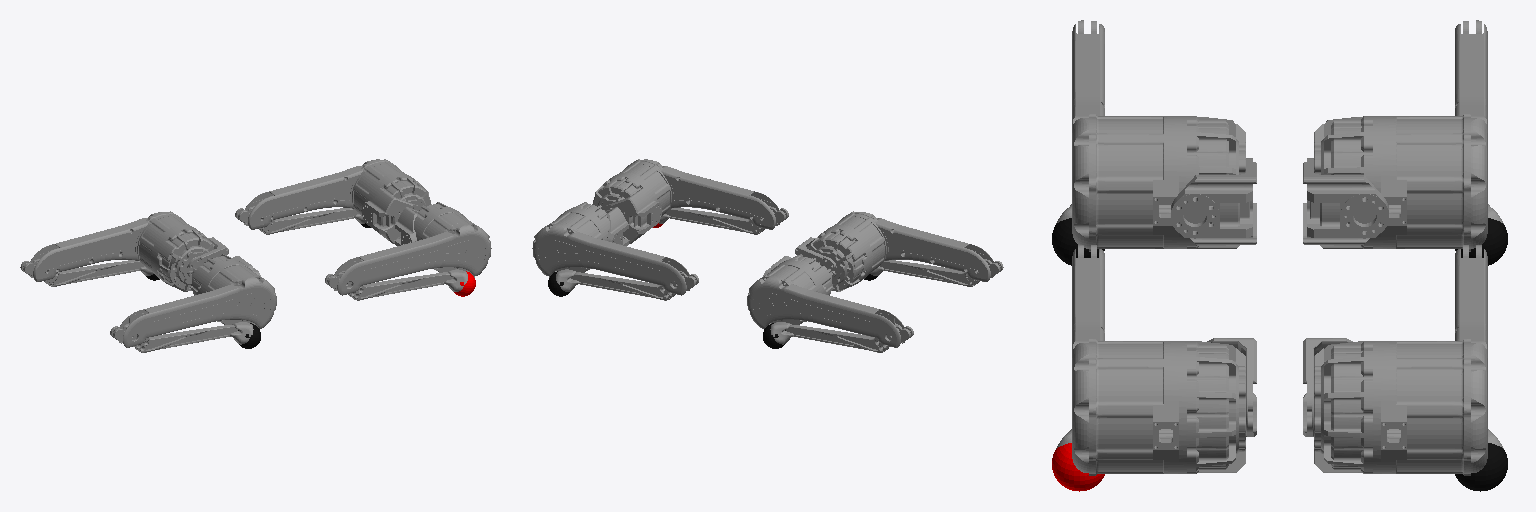
URDF robot description (hb50):
<?xml version="1.0" ?>
<!-- =================================================================================== -->
<!-- |    This document was autogenerated by xacro from urdf/hb50/hb50.urdf.xacro      | -->
<!-- |    EDITING THIS FILE BY HAND IS NOT RECOMMENDED                                 | -->
<!-- =================================================================================== -->
<robot name="hb50">
  <material name="silver">
    <color rgba="0.6 0.6 0.6 1"/>
  </material>
  <material name="black">
    <color rgba="0.1 0.1 0.1 1"/>
  </material>
  <material name="red">
    <color rgba="1 0 0 1"/>
  </material>
  <material name="orange">
    <color rgba="1 0.41 0 1"/>
  </material>
  <!-- Root link, free-floating base -->
  <link name="body">
    <inertial>
      <mass value="7.812"/>
      <inertia ixx="0.034280" ixy="0" ixz="0" iyy="0.053850" iyz="0" izz="0.073590"/>
    </inertial>
    <visual>
      <geometry>
        <mesh filename="package://robot_models/meshes/hb50/visual/hb50_body.stl" scale="0.001 0.001 0.001"/>
      </geometry>
      <material name="silver"/>
    </visual>
    <collision>
      <origin xyz="0 0 -0.002"/>
      <geometry>
        <box size="0.196 0.152 0.124"/>
      </geometry>
    </collision>
    <collision>
      <origin rpy="0 1.570796 0" xyz="0 -0.064 0"/>
      <geometry>
        <cylinder length="0.282" radius="0.056"/>
      </geometry>
    </collision>
    <collision>
      <origin rpy="0 1.570796 0" xyz="0 0.064 0"/>
      <geometry>
        <cylinder length="0.282" radius="0.056"/>
      </geometry>
    </collision>
    <collision>
      <origin xyz="0.09 0 0.057"/>
      <geometry>
        <box size="0.048 0.128 0.048"/>
      </geometry>
    </collision>
  </link>
  <!-- L0 : hip abduction link -->
  <link name="fr_l0">
    <inertial>
      <origin xyz="0.021234 0.02611 -0.00004"/>
      <mass value="0.107"/>
      <inertia ixx="6.6961e-05" ixy="0" ixz="0" iyy="7.0869e-05" iyz="0" izz="6.2385e-05"/>
    </inertial>
    <visual>
      <origin rpy="3.141593 0 0"/>
      <geometry>
        <mesh filename="package://robot_models/meshes/hb50/visual/hb50_l0f.stl" scale="0.001 0.001 0.001"/>
      </geometry>
      <material name="silver"/>
    </visual>
  </link>
  <!-- L1 : upper leg -->
  <link name="fr_l1">
    <inertial>
      <origin xyz="0.067316 -0.013171 0.002548"/>
      <mass value="2.081"/>
      <inertia ixx="0.006065" ixy="0" ixz="0" iyy="0.003514" iyz="0" izz="0.007592"/>
    </inertial>
    <visual>
      <origin rpy="3.141593 0 0"/>
      <geometry>
        <mesh filename="package://robot_models/meshes/hb50/visual/hb50_l1r.stl" scale="0.001 0.001 0.001"/>
      </geometry>
      <material name="silver"/>
    </visual>
    <collision>
      <origin rpy="0 1.570796 0" xyz="0.066 0 0"/>
      <geometry>
        <cylinder length="0.132" radius="0.051"/>
      </geometry>
    </collision>
    <collision>
      <origin rpy="0.05 0 0" xyz="0.118 -0.134 0.013"/>
      <geometry>
        <box size="0.028 0.22 0.052"/>
      </geometry>
    </collision>
  </link>
  <!-- L2 : lower leg / shin -->
  <link name="fr_l2">
    <inertial>
      <origin xyz="0.000982 -0.103425 0.002827"/>
      <mass value="0.141"/>
      <inertia ixx="0.001234" ixy="0" ixz="0" iyy="0.000021630" iyz="0" izz="0.001225"/>
    </inertial>
    <visual>
      <origin rpy="3.141593 0 0"/>
      <geometry>
        <mesh filename="package://robot_models/meshes/hb50/visual/hb50_l2r.stl" scale="0.001 0.001 0.001"/>
      </geometry>
      <material name="silver"/>
    </visual>
    <collision>
      <origin rpy="1.2 0 0" xyz="0 0.01 0.004"/>
      <geometry>
        <cylinder length="0.06" radius="0.012"/>
      </geometry>
    </collision>
    <collision>
      <origin rpy="1.699994 0.003670 0.010561" xyz="0 -0.11 0.006"/>
      <geometry>
        <cylinder length="0.196" radius="0.016"/>
      </geometry>
    </collision>
  </link>
  <!-- Foot : massless -->
  <link name="fr_foot">
    <visual>
      <geometry>
        <sphere radius="0.021"/>
      </geometry>
      <material name="red"/>
    </visual>
    <collision>
      <geometry>
        <sphere radius="0.021"/>
      </geometry>
    </collision>
  </link>
  <!-- Joints -->
  <joint name="fr_j0" type="revolute">
    <parent link="body"/>
    <child link="fr_l0"/>
    <origin rpy="0 0 0" xyz="0.1405 -0.064 0"/>
    <axis xyz="1 0 0"/>
    <limit effort="24.0" lower="-1.047198" upper="1.570796" velocity="20.0"/>
    <dynamics damping="0.1" friction="0.48"/>
  </joint>
  <joint name="fr_j1" type="revolute">
    <parent link="fr_l0"/>
    <child link="fr_l1"/>
    <origin rpy="0 0 -1.570796" xyz="0.06 0.0385 0"/>
    <axis xyz="1 0 0"/>
    <limit effort="24.0" lower="-1.570796" upper="1.570796" velocity="20.0"/>
    <dynamics damping="0.1" friction="0.48"/>
  </joint>
  <joint name="fr_j2" type="revolute">
    <parent link="fr_l1"/>
    <child link="fr_l2"/>
    <origin rpy="2.914700 0 0" xyz="0.11965 -0.22 0"/>
    <axis xyz="1 0 0"/>
    <limit effort="24.0" lower="-2.70526" upper="0" velocity="20.0"/>
    <dynamics damping="0.1" friction="0.48"/>
  </joint>
  <joint name="fr_jFoot" type="fixed">
    <parent link="fr_l2"/>
    <child link="fr_foot"/>
    <origin xyz="0.006 -0.22 0"/>
  </joint>
  <!-- L0 : hip abduction link -->
  <link name="fl_l0">
    <inertial>
      <origin xyz="0.021234 -0.02611 0.00004"/>
      <mass value="0.107"/>
      <inertia ixx="6.6961e-05" ixy="0" ixz="0" iyy="7.0869e-05" iyz="0" izz="6.2385e-05"/>
    </inertial>
    <visual>
      <origin rpy="0 0 0"/>
      <geometry>
        <mesh filename="package://robot_models/meshes/hb50/visual/hb50_l0f.stl" scale="0.001 0.001 0.001"/>
      </geometry>
      <material name="silver"/>
    </visual>
  </link>
  <!-- L1 : upper leg -->
  <link name="fl_l1">
    <inertial>
      <origin xyz="0.067316 0.013171 0.002548"/>
      <mass value="2.081"/>
      <inertia ixx="0.006065" ixy="0" ixz="0" iyy="0.003514" iyz="0" izz="0.007592"/>
    </inertial>
    <visual>
      <origin rpy="0 3.141593 0"/>
      <geometry>
        <mesh filename="package://robot_models/meshes/hb50/visual/hb50_l1l.stl" scale="0.001 0.001 0.001"/>
      </geometry>
      <material name="silver"/>
    </visual>
    <collision>
      <origin rpy="0 1.570796 0" xyz="0.066 0 0"/>
      <geometry>
        <cylinder length="0.132" radius="0.051"/>
      </geometry>
    </collision>
    <collision>
      <origin rpy="-0.05 0 0" xyz="0.118 0.134 0.013"/>
      <geometry>
        <box size="0.028 0.22 0.052"/>
      </geometry>
    </collision>
  </link>
  <!-- L2 : lower leg / shin -->
  <link name="fl_l2">
    <inertial>
      <origin xyz="0.000982 0.103425 0.002827"/>
      <mass value="0.141"/>
      <inertia ixx="0.001234" ixy="0" ixz="0" iyy="0.000021630" iyz="0" izz="0.001225"/>
    </inertial>
    <visual>
      <origin rpy="0 3.141593 0"/>
      <geometry>
        <mesh filename="package://robot_models/meshes/hb50/visual/hb50_l2l.stl" scale="0.001 0.001 0.001"/>
      </geometry>
      <material name="silver"/>
    </visual>
    <collision>
      <origin rpy="-1.2 0 0" xyz="0 -0.01 0.004"/>
      <geometry>
        <cylinder length="0.06" radius="0.012"/>
      </geometry>
    </collision>
    <collision>
      <origin rpy="-1.699994 0.003670 -0.010561" xyz="0 0.11 0.006"/>
      <geometry>
        <cylinder length="0.196" radius="0.016"/>
      </geometry>
    </collision>
  </link>
  <!-- Foot : massless -->
  <link name="fl_foot">
    <visual>
      <geometry>
        <sphere radius="0.021"/>
      </geometry>
      <material name="black"/>
    </visual>
    <collision>
      <geometry>
        <sphere radius="0.021"/>
      </geometry>
    </collision>
  </link>
  <!-- Joints -->
  <joint name="fl_j0" type="revolute">
    <parent link="body"/>
    <child link="fl_l0"/>
    <origin rpy="0 0 0" xyz="0.1405 0.064 0"/>
    <axis xyz="1 0 0"/>
    <limit effort="24.0" lower="-1.570796" upper="1.047198" velocity="20.0"/>
    <dynamics damping="0.1" friction="0.48"/>
  </joint>
  <joint name="fl_j1" type="revolute">
    <parent link="fl_l0"/>
    <child link="fl_l1"/>
    <origin rpy="0 0 1.570796" xyz="0.06 -0.0385 0"/>
    <axis xyz="1 0 0"/>
    <limit effort="24.0" lower="-1.570796" upper="1.570796" velocity="20.0"/>
    <dynamics damping="0.1" friction="0.48"/>
  </joint>
  <joint name="fl_j2" type="revolute">
    <parent link="fl_l1"/>
    <child link="fl_l2"/>
    <origin rpy="-2.914700 0 0" xyz="0.11965 0.22 0"/>
    <axis xyz="1 0 0"/>
    <limit effort="24.0" lower="0" upper="2.70526" velocity="20.0"/>
    <dynamics damping="0.1" friction="0.48"/>
  </joint>
  <joint name="fl_jFoot" type="fixed">
    <parent link="fl_l2"/>
    <child link="fl_foot"/>
    <origin xyz="0.006 0.22 0"/>
  </joint>
  <!-- L0 : hip abduction link -->
  <link name="rl_l0">
    <inertial>
      <origin xyz="0.01945 0.024417 0"/>
      <mass value="0.097"/>
      <inertia ixx="4.8192e-05" ixy="0" ixz="0" iyy="5.0964e-05" iyz="0" izz="5.8424e-05"/>
    </inertial>
    <visual>
      <origin rpy="3.141593 0 0"/>
      <geometry>
        <mesh filename="package://robot_models/meshes/hb50/visual/hb50_l0r.stl" scale="0.001 0.001 0.001"/>
      </geometry>
      <material name="silver"/>
    </visual>
  </link>
  <!-- L1 : upper leg -->
  <link name="rl_l1">
    <inertial>
      <origin xyz="0.067294 0.016208 0.002475"/>
      <mass value="2.082"/>
      <inertia ixx="0.005907" ixy="0" ixz="0" iyy="0.003507" iyz="0" izz="0.007445"/>
    </inertial>
    <visual>
      <origin rpy="0 3.141593 0"/>
      <geometry>
        <mesh filename="package://robot_models/meshes/hb50/visual/hb50_l1l.stl" scale="0.001 0.001 0.001"/>
      </geometry>
      <material name="silver"/>
    </visual>
    <collision>
      <origin rpy="0 1.570796 0" xyz="0.066 0 0"/>
      <geometry>
        <cylinder length="0.132" radius="0.051"/>
      </geometry>
    </collision>
    <collision>
      <origin rpy="-0.05 0 0" xyz="0.118 0.134 0.013"/>
      <geometry>
        <box size="0.028 0.22 0.052"/>
      </geometry>
    </collision>
  </link>
  <!-- L2 : lower leg / shin -->
  <link name="rl_l2">
    <inertial>
      <origin xyz="0.000982 0.103425 0.002827"/>
      <mass value="0.141"/>
      <inertia ixx="0.001234" ixy="0" ixz="0" iyy="0.000021630" iyz="0" izz="0.001225"/>
    </inertial>
    <visual>
      <origin rpy="0 3.141593 0"/>
      <geometry>
        <mesh filename="package://robot_models/meshes/hb50/visual/hb50_l2l.stl" scale="0.001 0.001 0.001"/>
      </geometry>
      <material name="silver"/>
    </visual>
    <collision>
      <origin rpy="-1.2 0 0" xyz="0 -0.01 0.004"/>
      <geometry>
        <cylinder length="0.06" radius="0.012"/>
      </geometry>
    </collision>
    <collision>
      <origin rpy="-1.699994 0.003670 -0.010561" xyz="0 0.11 0.006"/>
      <geometry>
        <cylinder length="0.196" radius="0.016"/>
      </geometry>
    </collision>
  </link>
  <!-- Foot : massless -->
  <link name="rl_foot">
    <visual>
      <geometry>
        <sphere radius="0.021"/>
      </geometry>
      <material name="black"/>
    </visual>
    <collision>
      <geometry>
        <sphere radius="0.021"/>
      </geometry>
    </collision>
  </link>
  <!-- Joints -->
  <joint name="rl_j0" type="revolute">
    <parent link="body"/>
    <child link="rl_l0"/>
    <origin rpy="0 0 -3.141593" xyz="-0.1405 0.064 0"/>
    <axis xyz="1 0 0"/>
    <limit effort="24.0" lower="-1.047198" upper="1.570796" velocity="20.0"/>
    <dynamics damping="0.1" friction="0.48"/>
  </joint>
  <joint name="rl_j1" type="revolute">
    <parent link="rl_l0"/>
    <child link="rl_l1"/>
    <origin rpy="0 0 -1.570796" xyz="0.06 0.0385 0"/>
    <axis xyz="1 0 0"/>
    <limit effort="24.0" lower="-3.141593" upper="1.570796" velocity="20.0"/>
    <dynamics damping="0.1" friction="0.48"/>
  </joint>
  <joint name="rl_j2" type="revolute">
    <parent link="rl_l1"/>
    <child link="rl_l2"/>
    <origin rpy="-2.914700 0 0" xyz="0.11965 0.22 0"/>
    <axis xyz="1 0 0"/>
    <limit effort="24.0" lower="0" upper="2.70526" velocity="20.0"/>
    <dynamics damping="0.1" friction="0.48"/>
  </joint>
  <joint name="rl_jFoot" type="fixed">
    <parent link="rl_l2"/>
    <child link="rl_foot"/>
    <origin xyz="0.006 0.22 0"/>
  </joint>
  <!-- L0 : hip abduction link -->
  <link name="rr_l0">
    <inertial>
      <origin xyz="0.01945 -0.024417 0"/>
      <mass value="0.097"/>
      <inertia ixx="4.8192e-05" ixy="0" ixz="0" iyy="5.0964e-05" iyz="0" izz="5.8424e-05"/>
    </inertial>
    <visual>
      <origin rpy="0 0 0"/>
      <geometry>
        <mesh filename="package://robot_models/meshes/hb50/visual/hb50_l0r.stl" scale="0.001 0.001 0.001"/>
      </geometry>
      <material name="silver"/>
    </visual>
  </link>
  <!-- L1 : upper leg -->
  <link name="rr_l1">
    <inertial>
      <origin xyz="0.067294 -0.016208 0.002475"/>
      <mass value="2.082"/>
      <inertia ixx="0.005907" ixy="0" ixz="0" iyy="0.003507" iyz="0" izz="0.007445"/>
    </inertial>
    <visual>
      <origin rpy="3.141593 0 0"/>
      <geometry>
        <mesh filename="package://robot_models/meshes/hb50/visual/hb50_l1r.stl" scale="0.001 0.001 0.001"/>
      </geometry>
      <material name="silver"/>
    </visual>
    <collision>
      <origin rpy="0 1.570796 0" xyz="0.066 0 0"/>
      <geometry>
        <cylinder length="0.132" radius="0.051"/>
      </geometry>
    </collision>
    <collision>
      <origin rpy="0.05 0 0" xyz="0.118 -0.134 0.013"/>
      <geometry>
        <box size="0.028 0.22 0.052"/>
      </geometry>
    </collision>
  </link>
  <!-- L2 : lower leg / shin -->
  <link name="rr_l2">
    <inertial>
      <origin xyz="0.000982 -0.103425 0.002827"/>
      <mass value="0.141"/>
      <inertia ixx="0.001234" ixy="0" ixz="0" iyy="0.000021630" iyz="0" izz="0.001225"/>
    </inertial>
    <visual>
      <origin rpy="3.141593 0 0"/>
      <geometry>
        <mesh filename="package://robot_models/meshes/hb50/visual/hb50_l2r.stl" scale="0.001 0.001 0.001"/>
      </geometry>
      <material name="silver"/>
    </visual>
    <collision>
      <origin rpy="1.2 0 0" xyz="0 0.01 0.004"/>
      <geometry>
        <cylinder length="0.06" radius="0.012"/>
      </geometry>
    </collision>
    <collision>
      <origin rpy="1.699994 0.003670 0.010561" xyz="0 -0.11 0.006"/>
      <geometry>
        <cylinder length="0.196" radius="0.016"/>
      </geometry>
    </collision>
  </link>
  <!-- Foot : massless -->
  <link name="rr_foot">
    <visual>
      <geometry>
        <sphere radius="0.021"/>
      </geometry>
      <material name="black"/>
    </visual>
    <collision>
      <geometry>
        <sphere radius="0.021"/>
      </geometry>
    </collision>
  </link>
  <!-- Joints -->
  <joint name="rr_j0" type="revolute">
    <parent link="body"/>
    <child link="rr_l0"/>
    <origin rpy="0 0 -3.141593" xyz="-0.1405 -0.064 0"/>
    <axis xyz="1 0 0"/>
    <limit effort="24.0" lower="-1.570796" upper="1.047198" velocity="20.0"/>
    <dynamics damping="0.1" friction="0.48"/>
  </joint>
  <joint name="rr_j1" type="revolute">
    <parent link="rr_l0"/>
    <child link="rr_l1"/>
    <origin rpy="0 0 1.570796" xyz="0.06 -0.0385 0"/>
    <axis xyz="1 0 0"/>
    <limit effort="24.0" lower="-1.570796" upper="3.141593" velocity="20.0"/>
    <dynamics damping="0.1" friction="0.48"/>
  </joint>
  <joint name="rr_j2" type="revolute">
    <parent link="rr_l1"/>
    <child link="rr_l2"/>
    <origin rpy="2.914700 0 0" xyz="0.11965 -0.22 0"/>
    <axis xyz="1 0 0"/>
    <limit effort="24.0" lower="-2.70526" upper="0" velocity="20.0"/>
    <dynamics damping="0.1" friction="0.48"/>
  </joint>
  <joint name="rr_jFoot" type="fixed">
    <parent link="rr_l2"/>
    <child link="rr_foot"/>
    <origin xyz="0.006 -0.22 0"/>
  </joint>
</robot>

--- Facts derived from the render (not from the file) ---
The picture shows the robot from 3 angles, left to right: view 1: azimuth 30°, elevation 25°; view 2: azimuth 150°, elevation 25°; view 3: azimuth 270°, elevation 25°; orthographic projection.
Model hb50 with 17 links and 16 joints (12 revolute, 4 fixed), rooted at body, posed every joint at zero.
Visible links, largest first — view 1: rl_l1, rr_l1, fr_l1, fl_l1, rr_l2, fr_l2, fl_l0, rl_l2, fl_l2, fr_l0; view 2: rr_l1, rl_l1, fl_l1, fr_l1, rl_l2, fl_l2, fr_l0, rr_l2, fr_l2, fl_l0; view 3: fr_l1, fl_l1, rl_l1, rr_l1, rl_l0, rr_l0, fr_l0, fl_l0, fr_foot, fl_foot, rl_foot, rr_foot.
Boxes of the visible links, left/top/right/bottom form: rl_l1: left=29, top=211, right=214, bottom=291; rr_l1: left=118, top=254, right=276, bottom=347; fr_l1: left=333, top=202, right=491, bottom=295; fl_l1: left=243, top=159, right=431, bottom=229; rr_l2: left=110, top=322, right=253, bottom=352; fr_l2: left=325, top=269, right=467, bottom=300; fl_l0: left=362, top=191, right=421, bottom=243; rl_l2: left=20, top=259, right=153, bottom=286; fl_l2: left=235, top=207, right=364, bottom=234; fr_l0: left=395, top=207, right=418, bottom=245; rr_l1: left=809, top=211, right=994, bottom=291; rl_l1: left=747, top=254, right=905, bottom=347; fl_l1: left=532, top=202, right=690, bottom=295; fr_l1: left=592, top=159, right=780, bottom=229; rl_l2: left=770, top=322, right=913, bottom=352; fl_l2: left=556, top=269, right=698, bottom=300; fr_l0: left=602, top=191, right=661, bottom=243; rr_l2: left=870, top=259, right=1003, bottom=286; fr_l2: left=659, top=207, right=788, bottom=234; fl_l0: left=605, top=207, right=628, bottom=245; fr_l1: left=1072, top=249, right=1245, bottom=475; fl_l1: left=1314, top=249, right=1487, bottom=475; rl_l1: left=1314, top=24, right=1487, bottom=251; rr_l1: left=1072, top=24, right=1245, bottom=251; rl_l0: left=1303, top=158, right=1388, bottom=244; rr_l0: left=1171, top=158, right=1256, bottom=244; fr_l0: left=1207, top=338, right=1256, bottom=436; fl_l0: left=1303, top=338, right=1352, bottom=436; fr_foot: left=1052, top=443, right=1104, bottom=491; fl_foot: left=1455, top=443, right=1507, bottom=491; rl_foot: left=1455, top=218, right=1507, bottom=265; rr_foot: left=1052, top=218, right=1104, bottom=265.
Bounding box of the posed robot: 0.7084 × 0.3443 × 0.1205 m (x, y, z).
Meshes: 7 distinct files referenced, 12 mesh visuals loaded (6 binary STL); not drawn: 1 (reference not matched to a file when rendering).
